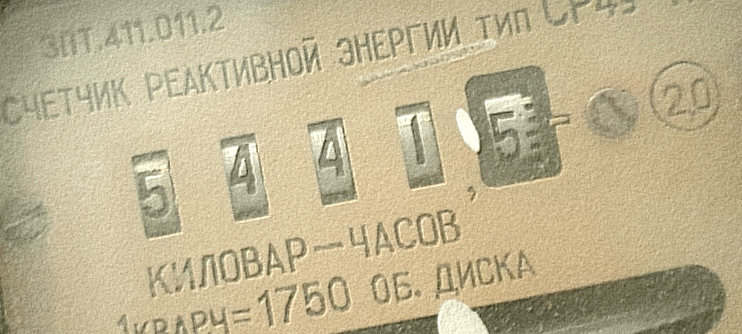1: (401, 110, 433, 170)
4: (307, 118, 353, 188), (221, 136, 264, 202)
5: (485, 102, 529, 169), (131, 163, 177, 224)
screen: (100, 38, 592, 270)
